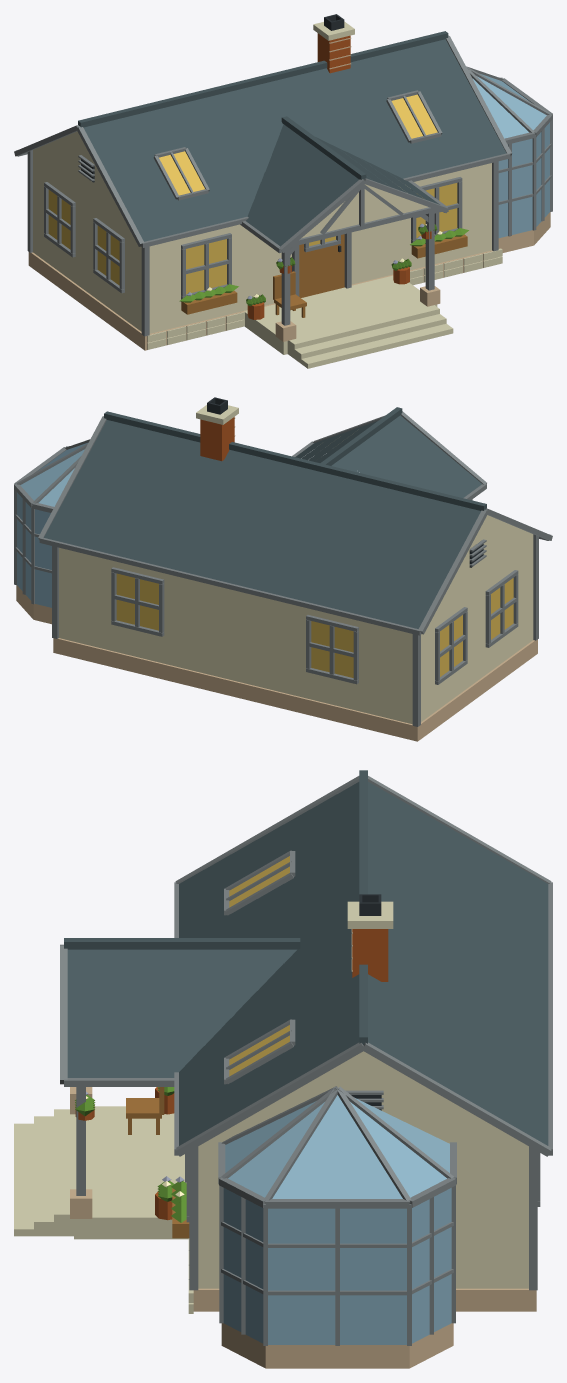
Rendered from House_A_Lv5_LOD1.fbx.
3 views of the same model, one above another, from view 1: azimuth 30°, elevation 25°; view 2: azimuth 150°, elevation 25°; view 3: azimuth 270°, elevation 25° (orthographic). The views are drawn at different scales.
Visible parts, largest first — view 1: House_A_Lv5_Medium; view 2: House_A_Lv5_Medium; view 3: House_A_Lv5_Medium.
Part boxes in pixels (x1,y1,x2,y2): House_A_Lv5_Medium: (14, 14, 552, 368); House_A_Lv5_Medium: (14, 397, 552, 741); House_A_Lv5_Medium: (14, 770, 552, 1368).
Bounding box in the file's own units: 19.03 × 9.34 × 13.49.
